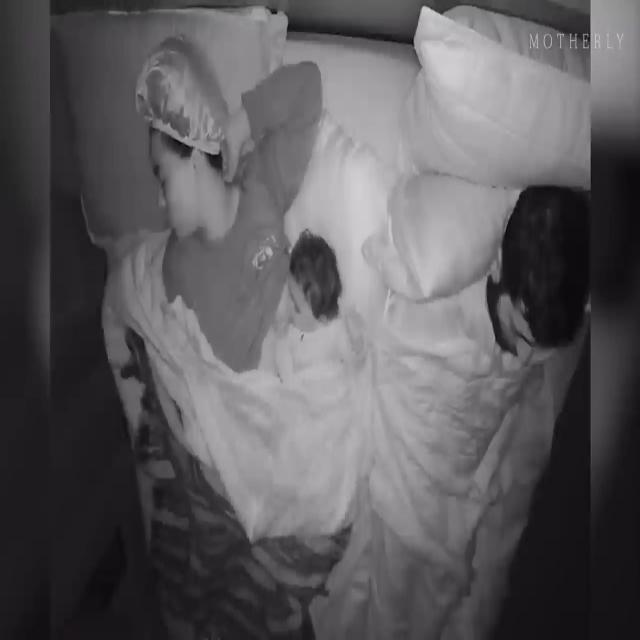baby: (272, 233, 362, 378)
